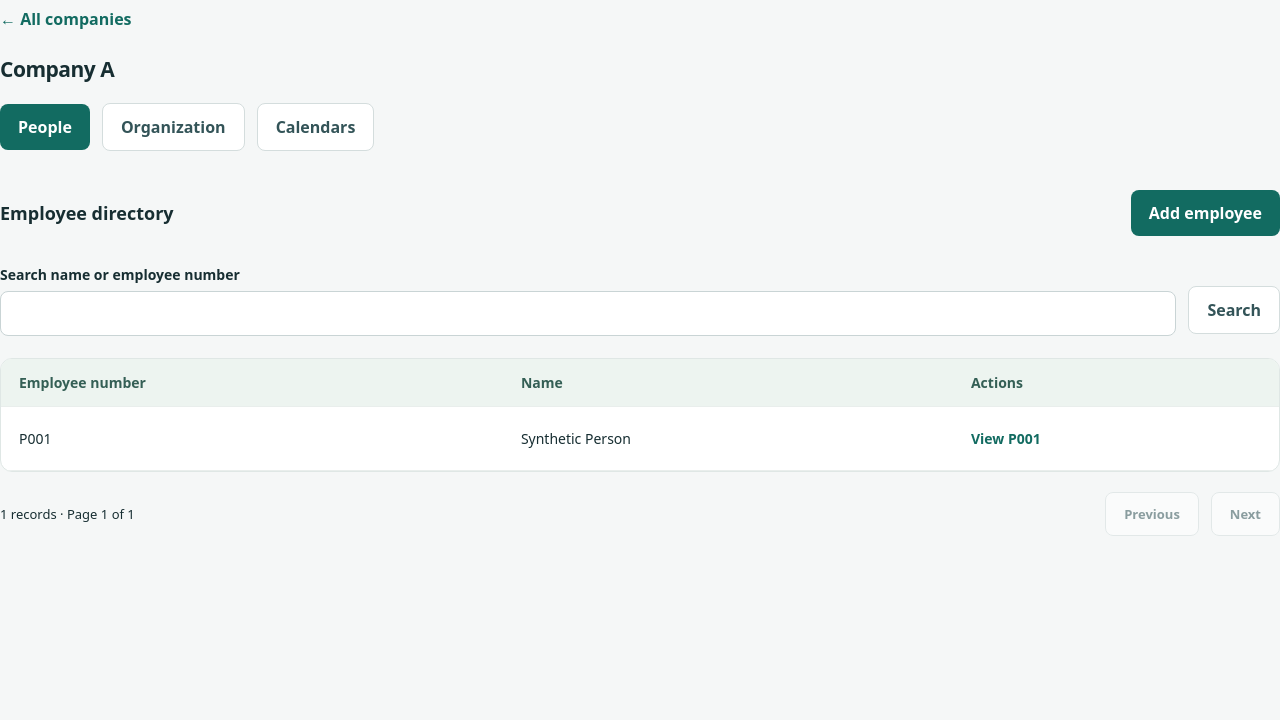
shows the current assignment and loads history on request
Click the button "View P001" at (1006,439), box [971,421,1041,456]
(page scrolled)
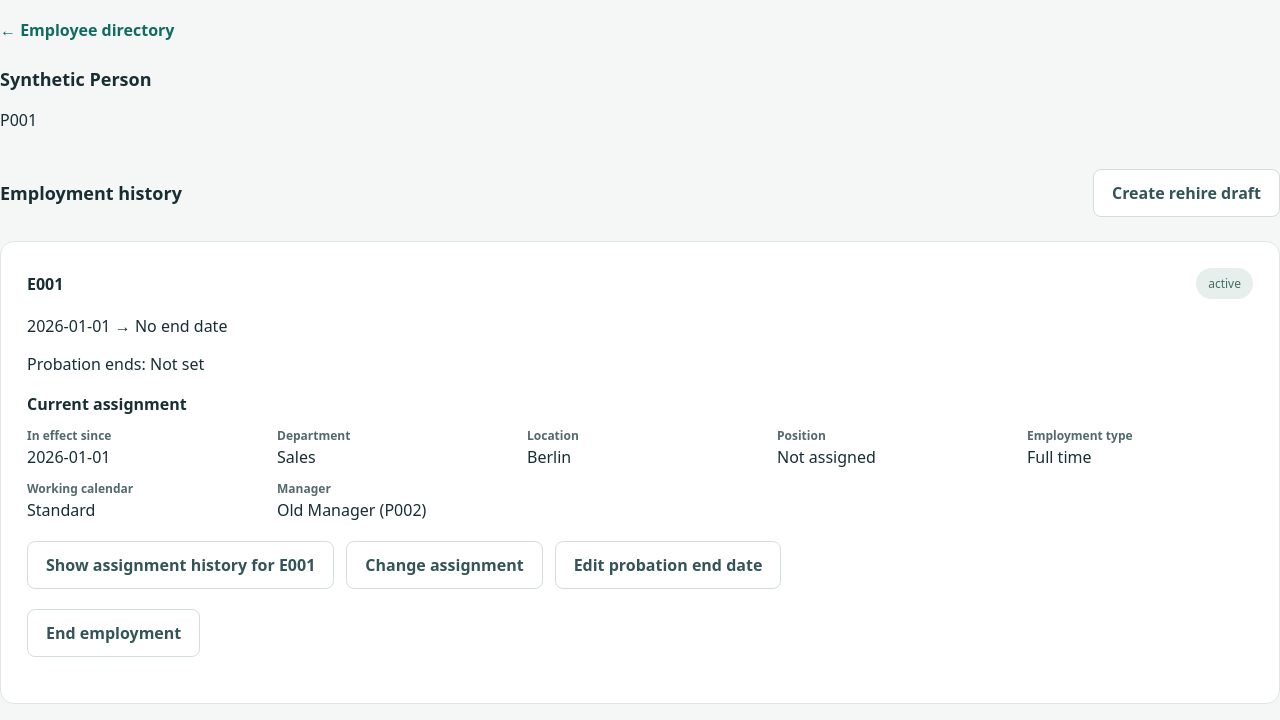
Expected: the text "E001" is shown, [27,273,63,295]
Expected: the text "Sales" is shown, [277,446,316,468]
Expected: the text "Old Manager (P002)" is shown, [277,499,426,521]
Click the button "Show assignment history for E001" at (181,565), box [27,541,334,589]
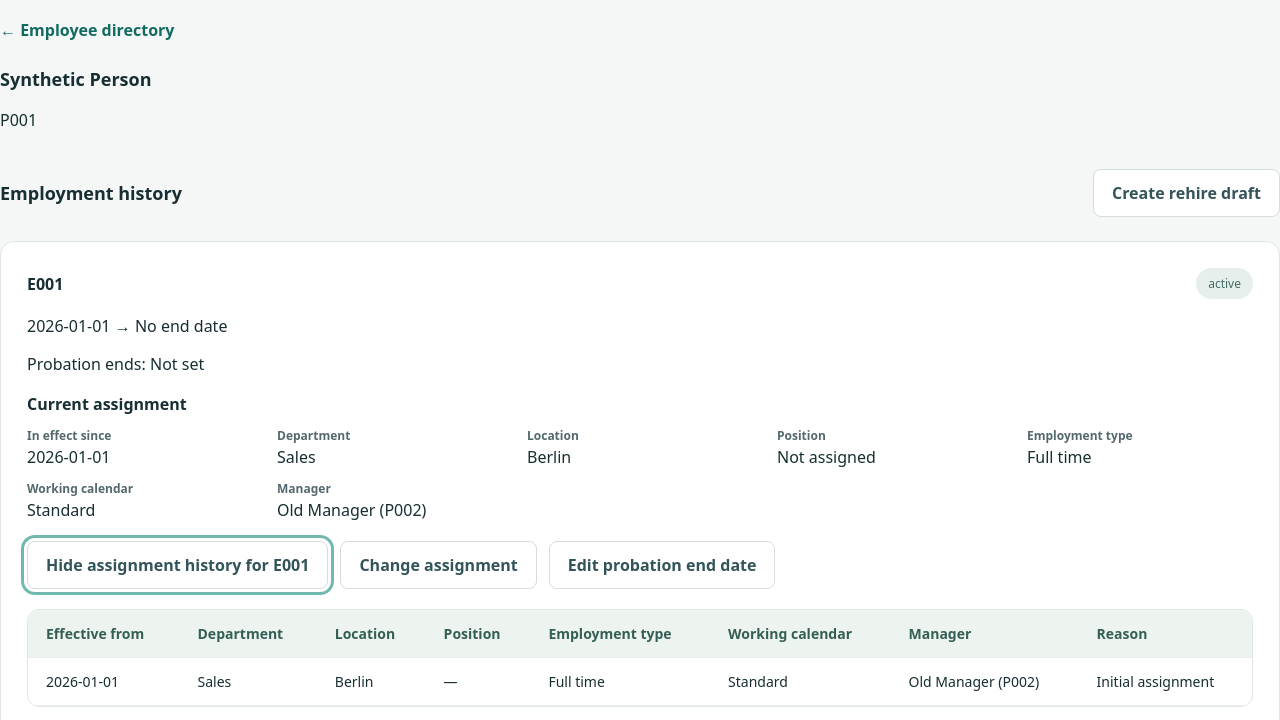
Expected: the text "Initial assignment" is shown, [1079,658,1252,706]
Expected: the text "Old Manager (P002)" is shown, [890,658,1079,706]
Expected: the text "Sales" is shown, [180,658,317,706]
